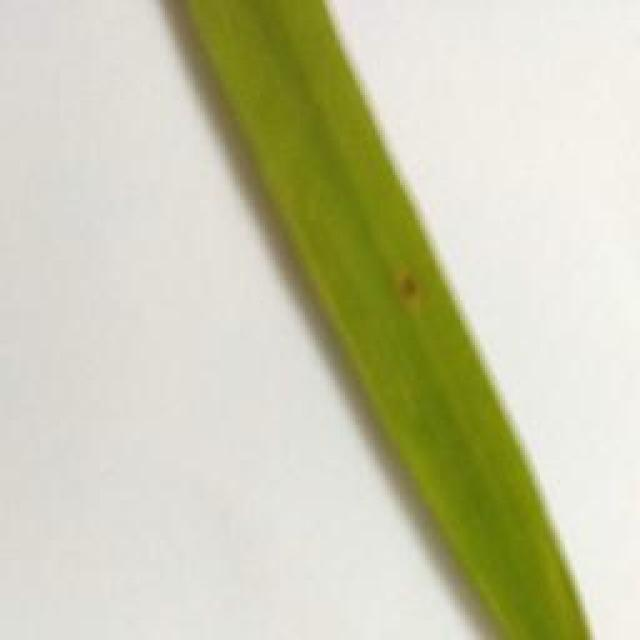Brown_Spot: (397, 264, 430, 308)
